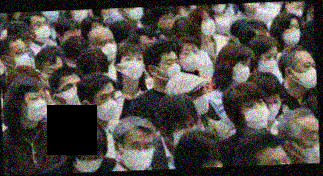with_mask: (121, 138, 157, 170), (243, 97, 272, 131), (22, 92, 49, 122), (172, 120, 199, 147), (294, 60, 317, 91), (97, 89, 117, 123), (121, 52, 144, 81), (190, 86, 211, 116), (75, 152, 106, 172), (61, 80, 83, 108), (180, 45, 202, 73), (303, 128, 319, 163), (10, 44, 32, 68), (97, 36, 118, 61), (281, 22, 302, 47), (257, 50, 279, 73), (32, 18, 51, 44), (264, 95, 283, 121), (162, 56, 182, 80), (233, 59, 252, 84), (43, 66, 62, 89), (199, 14, 217, 37), (287, 3, 305, 19)
without_mask: (160, 13, 176, 30)
